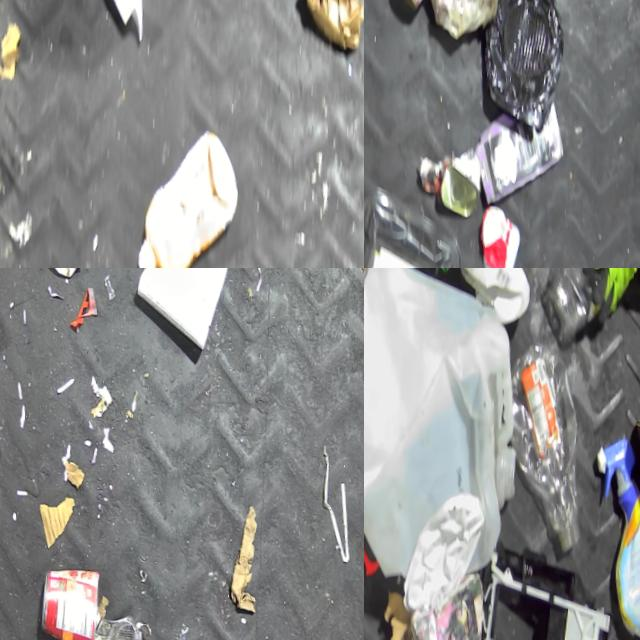can: (364, 268, 414, 386), (33, 556, 99, 640), (435, 137, 482, 213), (85, 604, 144, 640)
milk_jug: (364, 268, 532, 590)
plastic_bottle: (493, 325, 592, 546), (538, 268, 602, 340)
